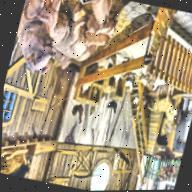boar: (7, 0, 123, 90)
